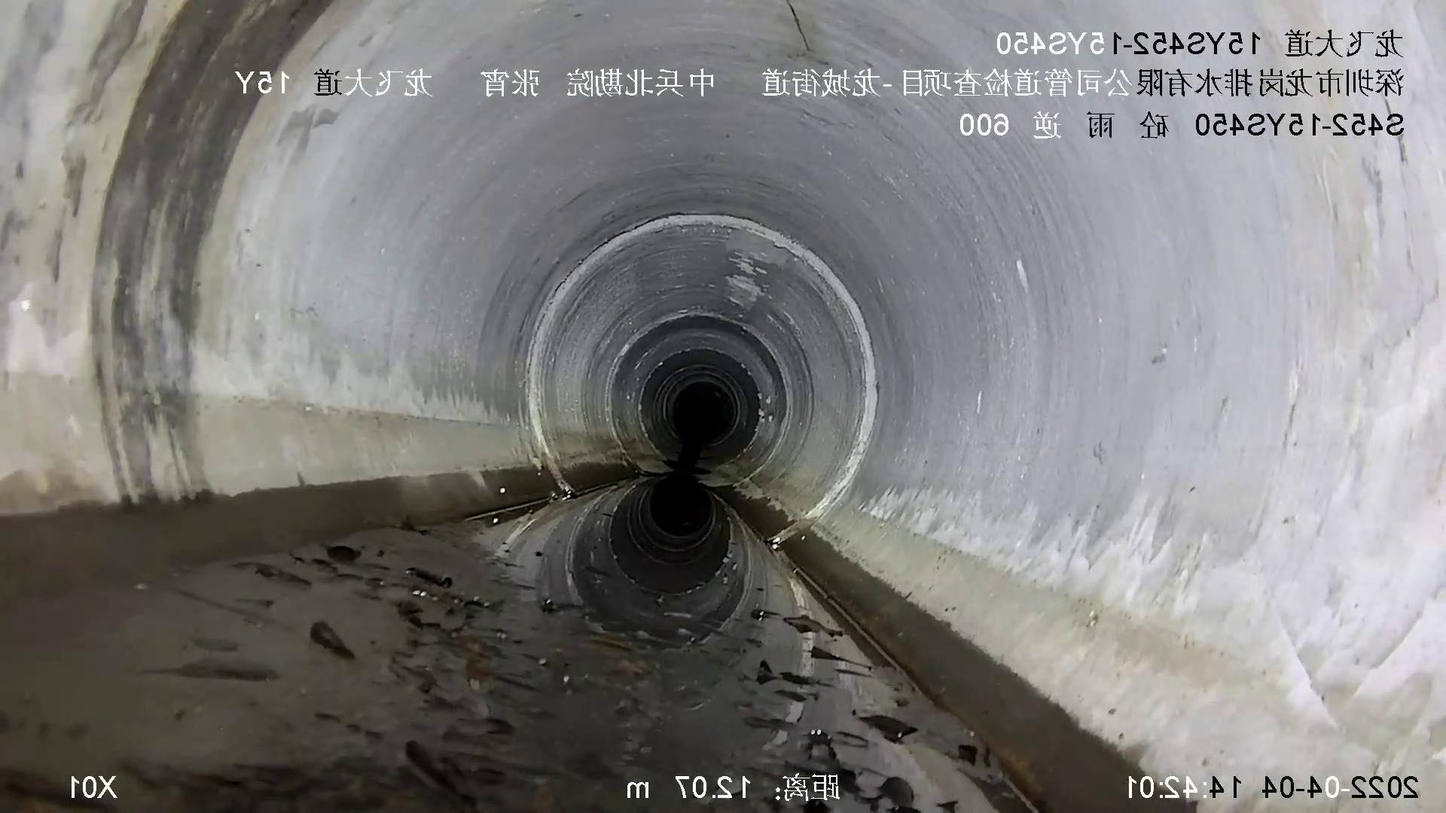CJ: (1, 526, 660, 812)
CKTJ: (525, 214, 879, 535)
